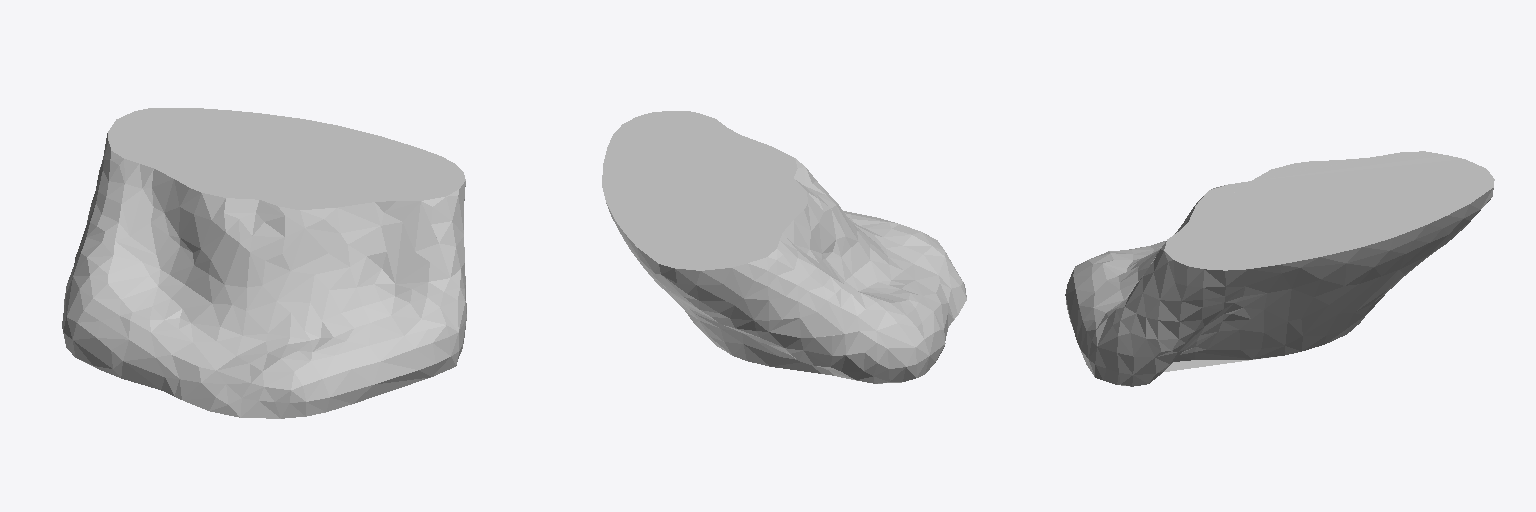
3 renders of one model, left to right at view 1: azimuth 30°, elevation 25°; view 2: azimuth 150°, elevation 25°; view 3: azimuth 270°, elevation 25°, orthographic.
Parts seen in each view (by area): view 1: low.022_Fotogrametria_MarioGomes_V01_Model_2.023; view 2: low.022_Fotogrametria_MarioGomes_V01_Model_2.023; view 3: low.022_Fotogrametria_MarioGomes_V01_Model_2.023.
Boxes of the visible parts, box(x1,y1,x2,y2) form: low.022_Fotogrametria_MarioGomes_V01_Model_2.023: box(62, 108, 466, 418); low.022_Fotogrametria_MarioGomes_V01_Model_2.023: box(602, 111, 966, 383); low.022_Fotogrametria_MarioGomes_V01_Model_2.023: box(1065, 151, 1494, 386).
Size of the model in its own units: 0.5305 by 0.2045 by 0.5715.